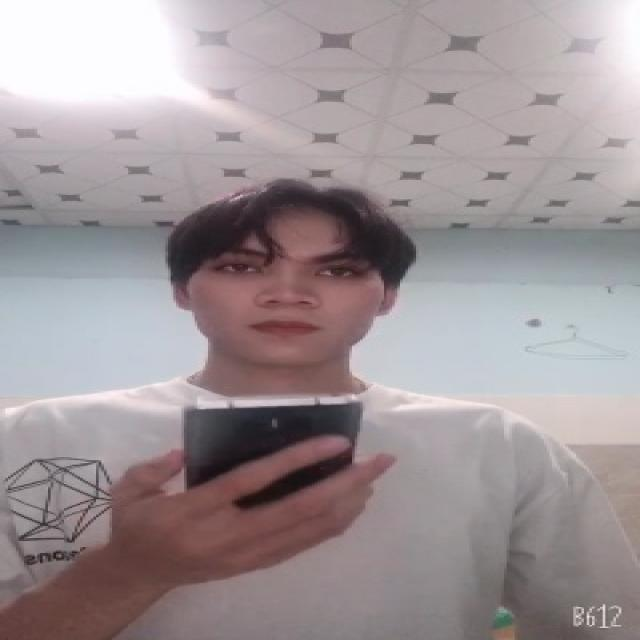Phone: (181, 396, 364, 506)
